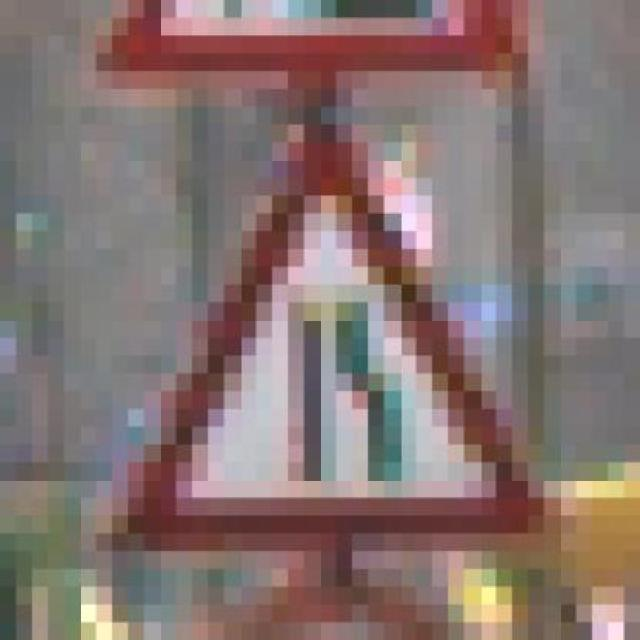-Road narrows on right: (79, 89, 576, 569)
